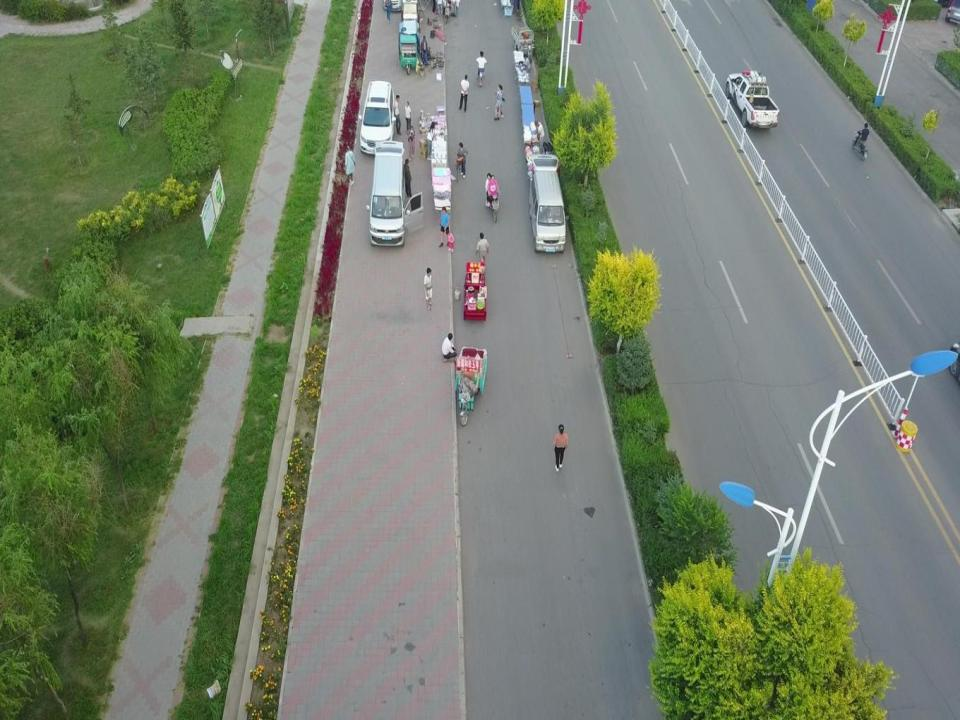car: (358, 80, 397, 156)
truck: (724, 70, 780, 129)
van: (366, 141, 424, 248), (944, 0, 960, 24)
